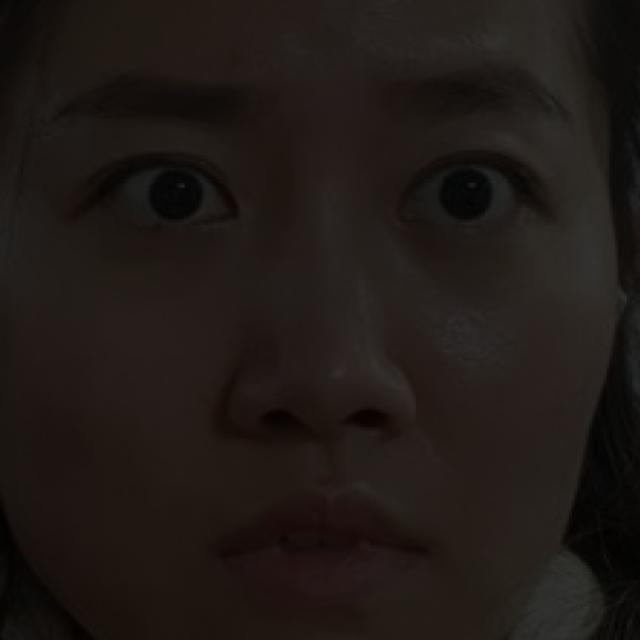Surprised: (46, 52, 612, 638)
